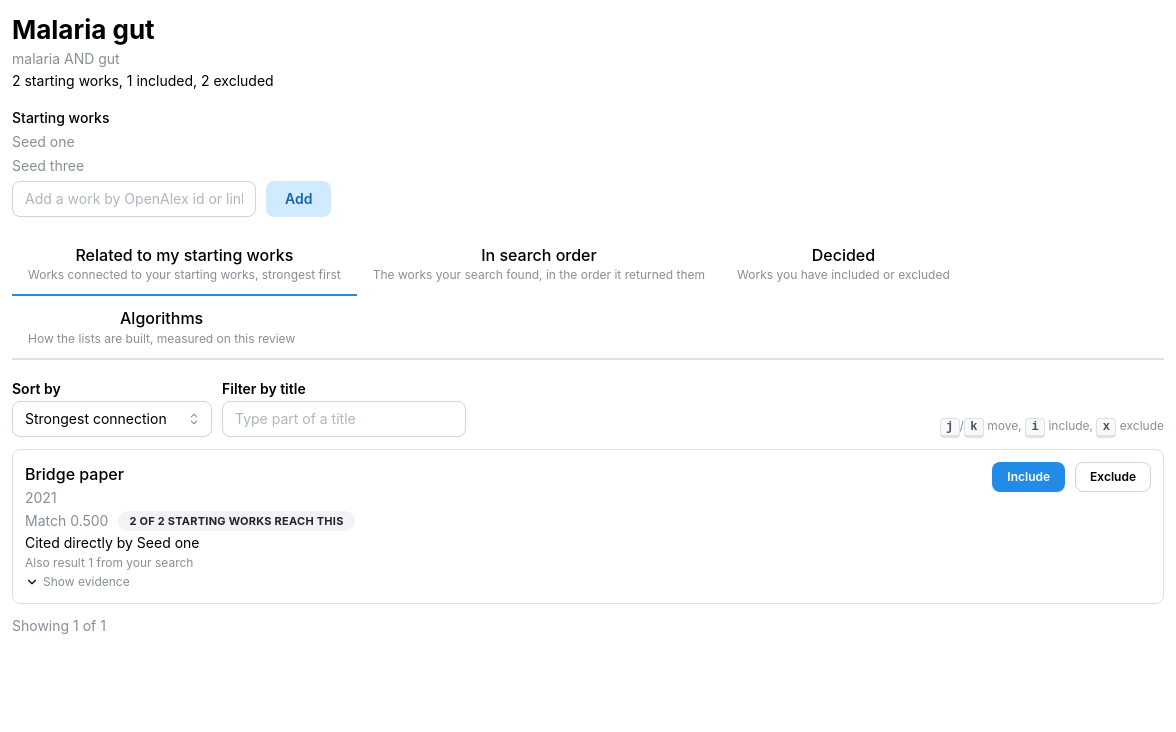
Scenario: ReviewScreen › announces a failed add instead of dropping it
In the field named "Add a starting work by OpenAlex id or link": point(134, 199) x1=12 y1=181 x2=256 y2=217, type "W9"
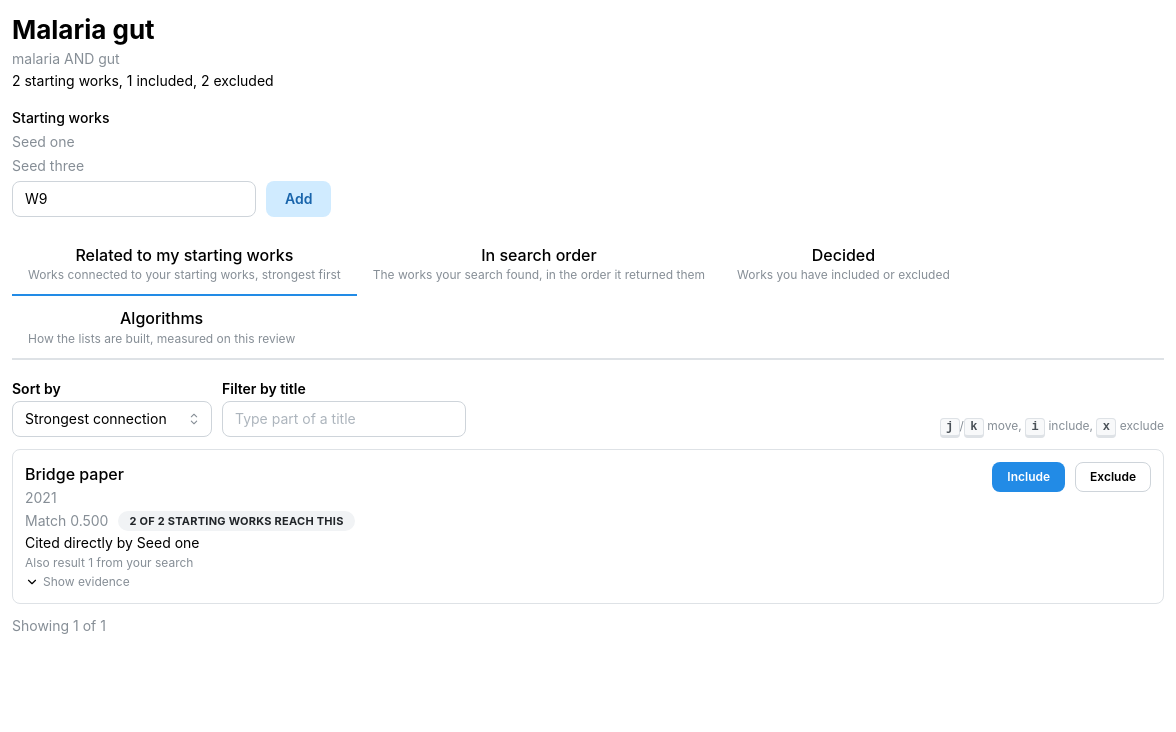
Click the button "Add": point(299, 199) x1=266 y1=181 x2=332 y2=217
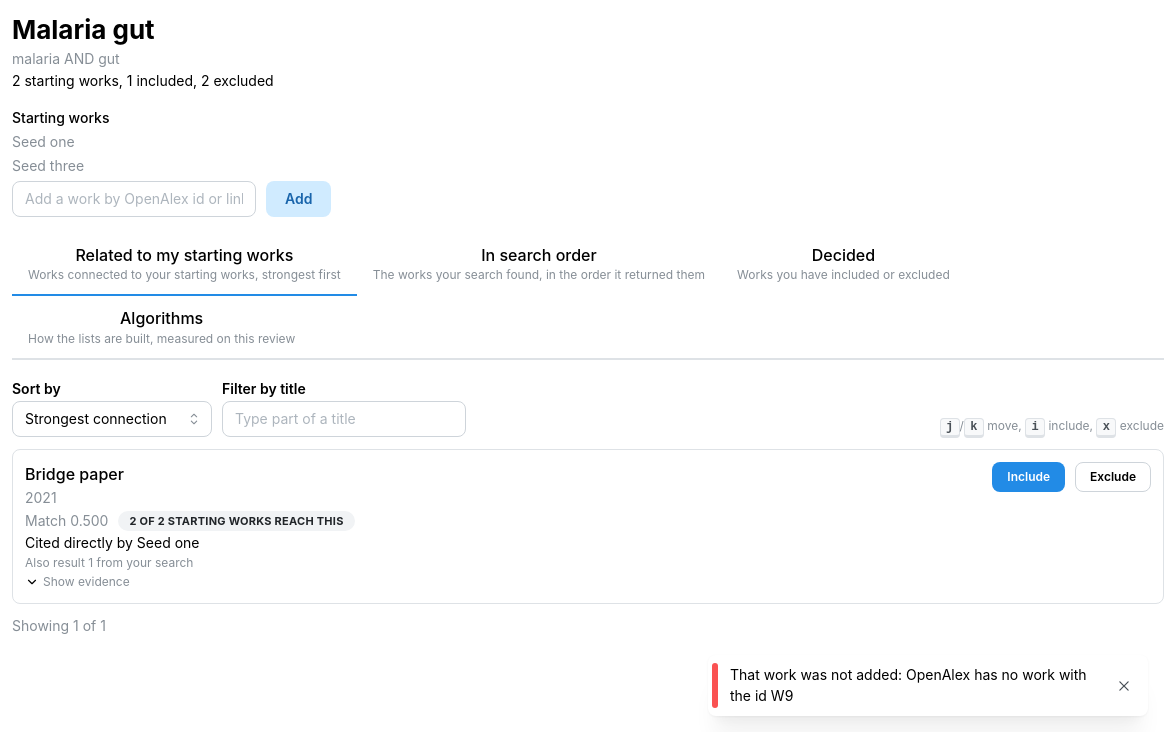
Expected: the text "That work was not added: OpenAlex has no work with the id W9" is shown, x1=730 y1=665 x2=1100 y2=706
